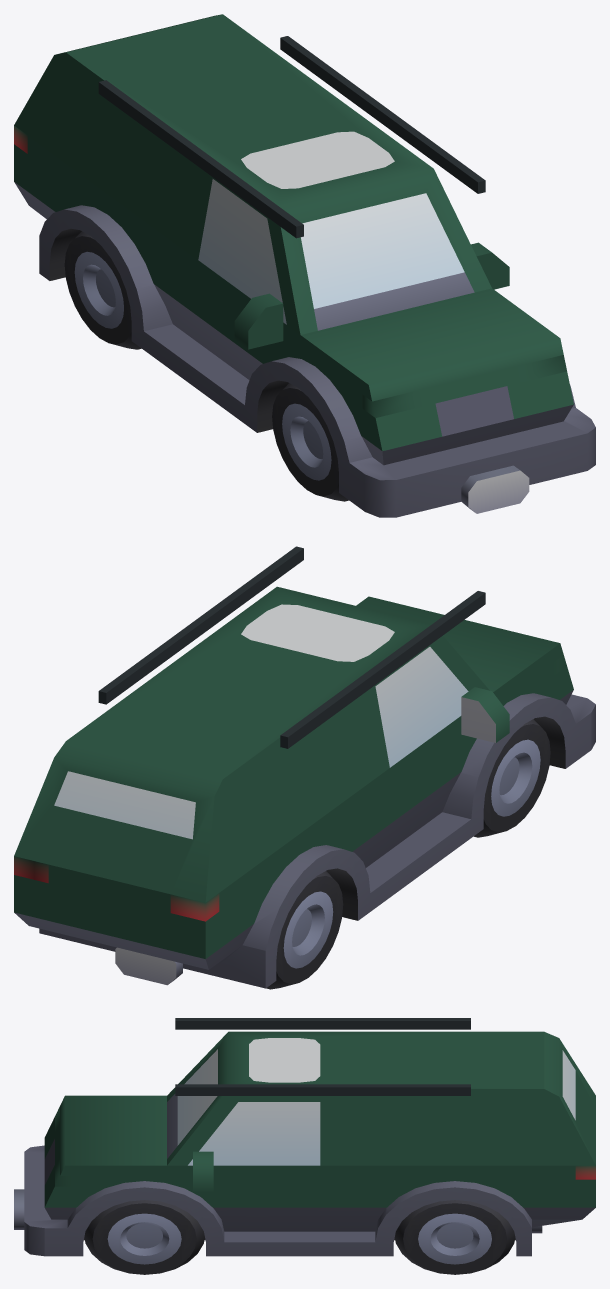
File: outback.glb
The picture shows the model from 3 angles, top to bottom: view 1: azimuth 30°, elevation 25°; view 2: azimuth 150°, elevation 25°; view 3: azimuth 270°, elevation 25°; orthographic projection. The views are drawn at different scales.
Visible parts, largest first — view 1: body, roof-rail (×2), wheel-back-right, wheel-front-right; view 2: body, roof-rail (×2), wheel-front-right, wheel-back-right; view 3: body, roof-rail (×2), wheel-front-left, wheel-back-left.
Boxes of the visible parts, left/top/right/bottom form: body: left=14, top=14, right=595, bottom=517; roof-rail (×2): left=98, top=36, right=485, bottom=238; wheel-back-right: left=64, top=231, right=141, bottom=349; wheel-front-right: left=272, top=383, right=348, bottom=501; body: left=14, top=586, right=595, bottom=988; roof-rail (×2): left=98, top=546, right=485, bottom=748; wheel-front-right: left=474, top=719, right=550, bottom=837; wheel-back-right: left=266, top=871, right=343, bottom=989; body: left=14, top=1031, right=595, bottom=1256; roof-rail (×2): left=175, top=1018, right=470, bottom=1095; wheel-front-left: left=84, top=1200, right=204, bottom=1274; wheel-back-left: left=394, top=1200, right=515, bottom=1274.
Size of the model in its own units: 1.87 by 1.74 by 4.82.
